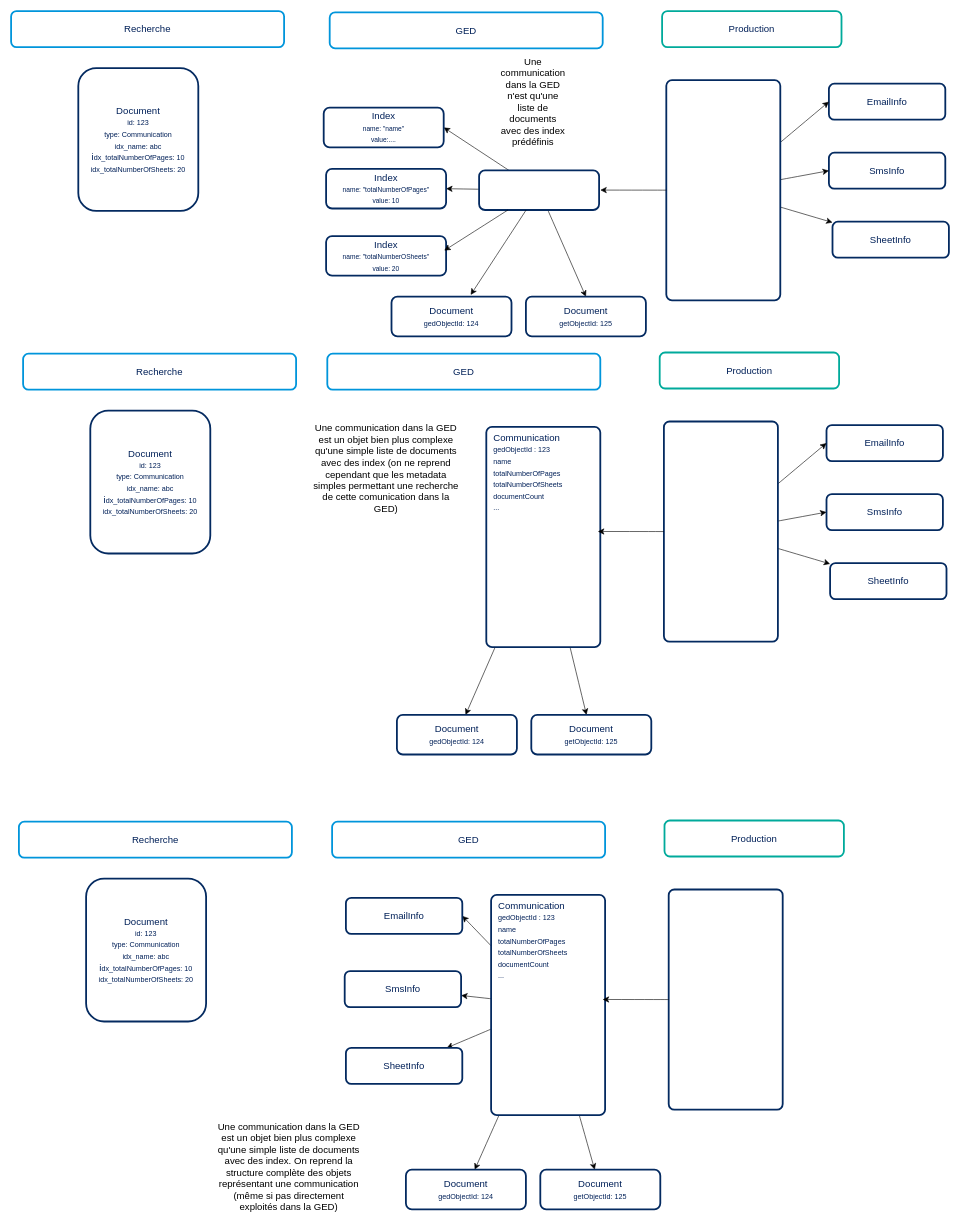
This 960x1223 diagram has some shape labels left out. The shapes that lost their labels are listed below. From the top down, each one's centre as x and y in pixels, then its label:
At pixel 539 190: "Communication gedObjectId: 123".
At pixel 723 190: "Communication communication : 1 getObjectId: 123".
At pixel 720 531: "Communication communicationId : 1 gedObjectId:123".
At pixel 725 999: "Communication communicationId : 1 gedObjectId: 123".
